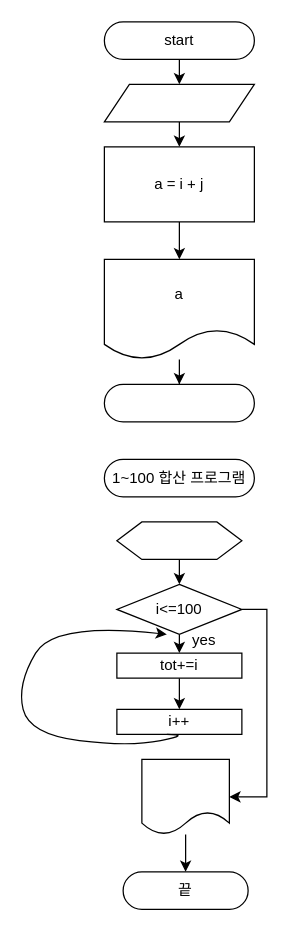
Some shapes in this 300 by 931 pixel diagram are drawn without their labels. The centre of each missing label's shape, as x and y in pixels:
"end" goes at point (178, 402).
"i = 0, tot = 0" goes at point (179, 540).
"i, j" goes at point (178, 102).
"tot" goes at point (185, 796).
